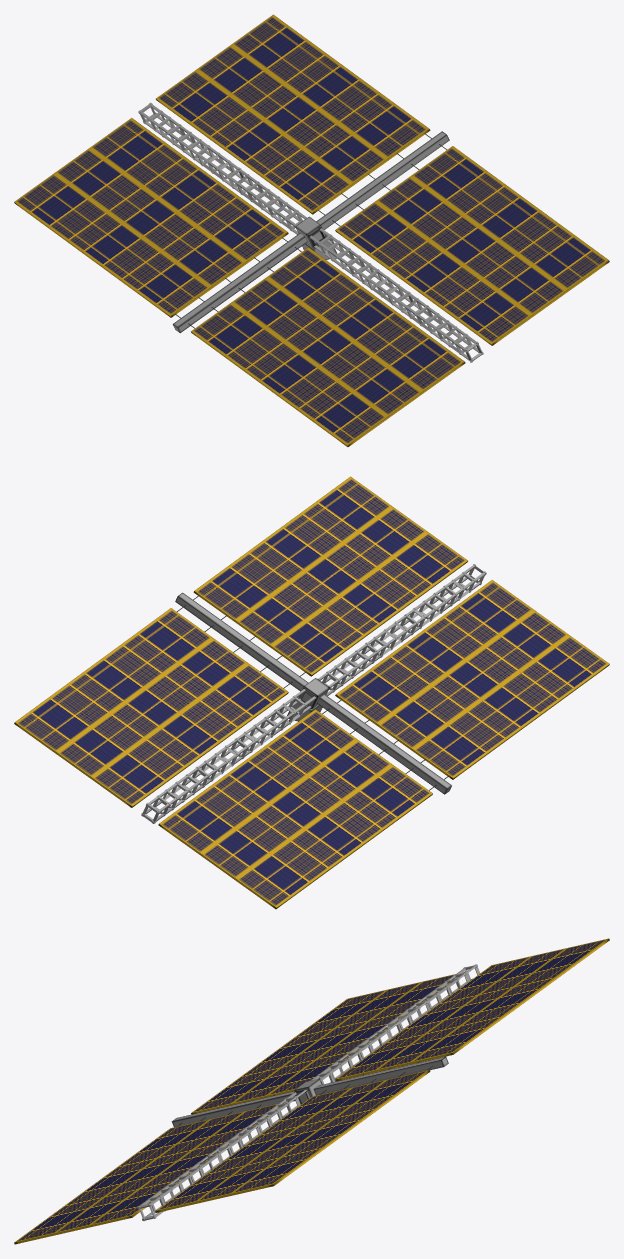
File: Model_SolarPanels.fbx
The picture shows the model from 3 angles, top to bottom: view 1: azimuth 30°, elevation 25°; view 2: azimuth 150°, elevation 25°; view 3: azimuth 330°, elevation 25°; orthographic projection.
Visible parts, largest first — view 1: pasted__polySurface8; view 2: pasted__polySurface8; view 3: pasted__polySurface8.
Boxes of the visible parts, <box> form: pasted__polySurface8: <box>14,14,609,446</box>; pasted__polySurface8: <box>14,476,609,909</box>; pasted__polySurface8: <box>14,938,609,1244</box>.
Size of the model in its own units: 14.47 by 6.78 by 30.91.
